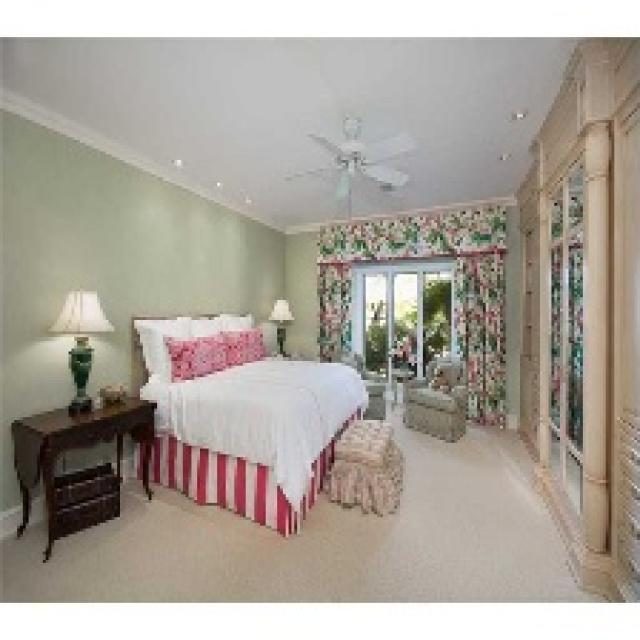Bed: (128, 312, 368, 537)
